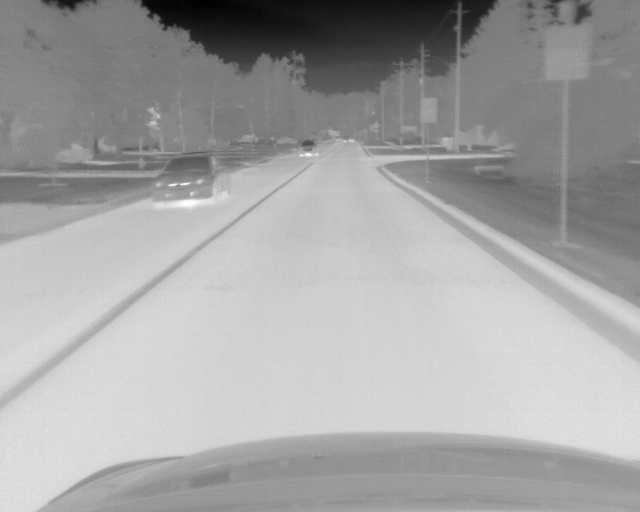car: (150, 155, 233, 207), (299, 141, 318, 158)
